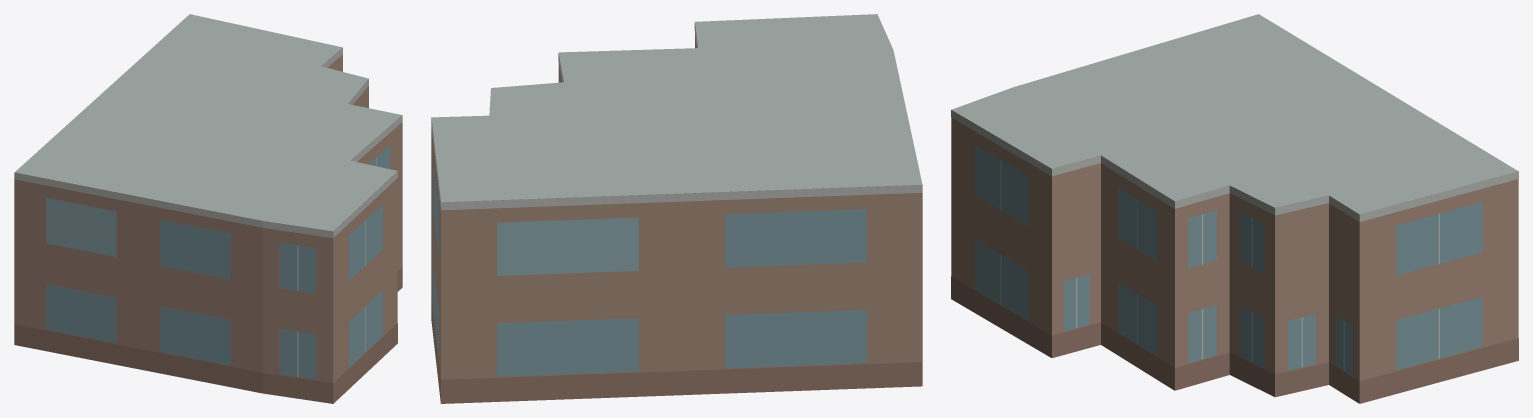
The model's file is survey-upis-32519128.glb.
3 views of the same model, side by side, from view 1: azimuth 30°, elevation 25°; view 2: azimuth 150°, elevation 25°; view 3: azimuth 270°, elevation 25° (orthographic). The views are drawn at different scales.
Parts seen in each view (by area): view 1: survey-upis-32519128.tmp; view 2: survey-upis-32519128.tmp; view 3: survey-upis-32519128.tmp.
Boxes of the visible parts, x1=… form: survey-upis-32519128.tmp: x1=14, y1=14, x2=402, y2=403; survey-upis-32519128.tmp: x1=431, y1=14, x2=922, y2=403; survey-upis-32519128.tmp: x1=951, y1=14, x2=1518, y2=403.
Bounding box in the file's own units: 13.86 × 6.1 × 16.58.
